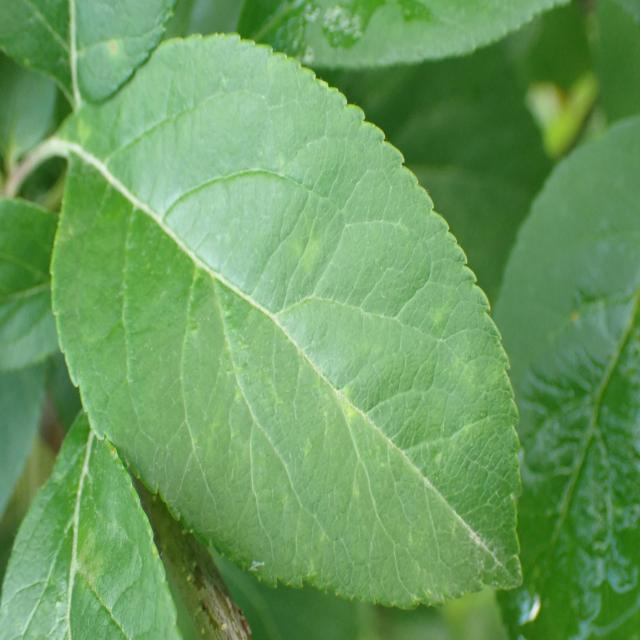scab: (74, 108, 498, 581)
